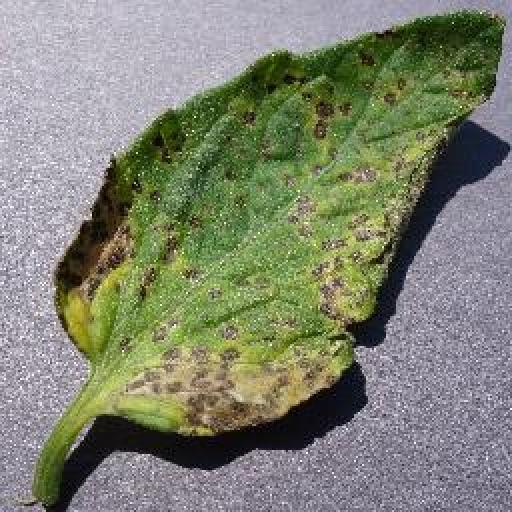Septoria: (54, 8, 505, 441)
